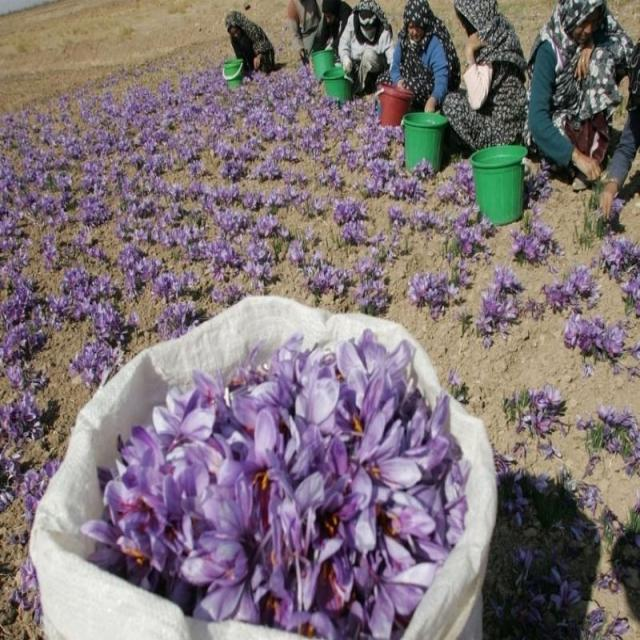Flower: (97, 330, 465, 640), (0, 90, 300, 260), (498, 370, 574, 444), (561, 306, 640, 368), (153, 268, 234, 326), (58, 260, 128, 324), (70, 331, 142, 392), (584, 400, 640, 475), (313, 258, 387, 313), (0, 383, 61, 449), (406, 264, 468, 326), (474, 270, 538, 324), (248, 213, 303, 270), (602, 230, 640, 312), (6, 278, 44, 360), (332, 185, 379, 242), (509, 217, 572, 254), (553, 263, 599, 313), (453, 212, 503, 258)
